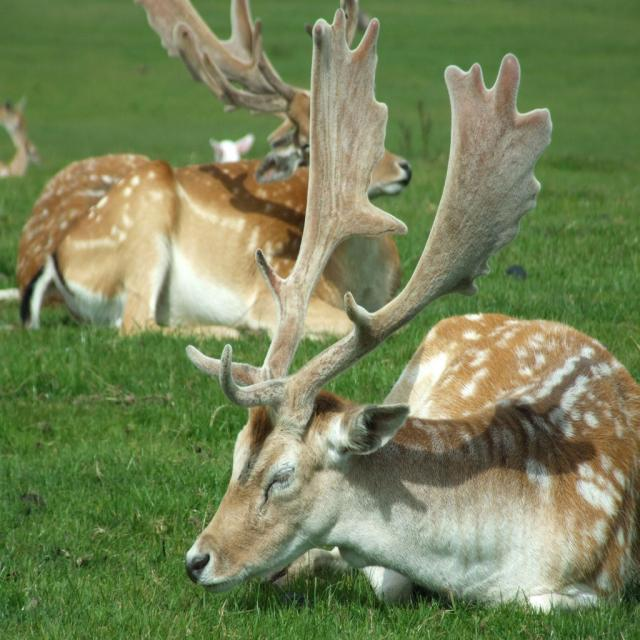Deer: (185, 6, 640, 616), (14, 0, 414, 338)
